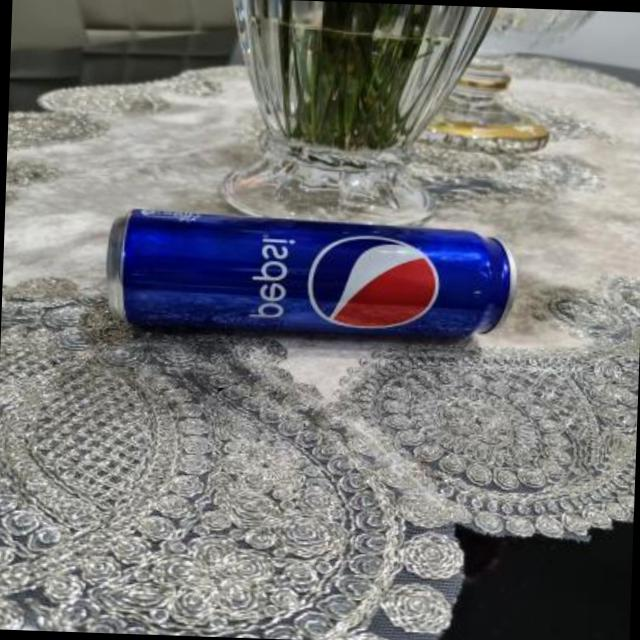metal: (108, 206, 515, 334)
